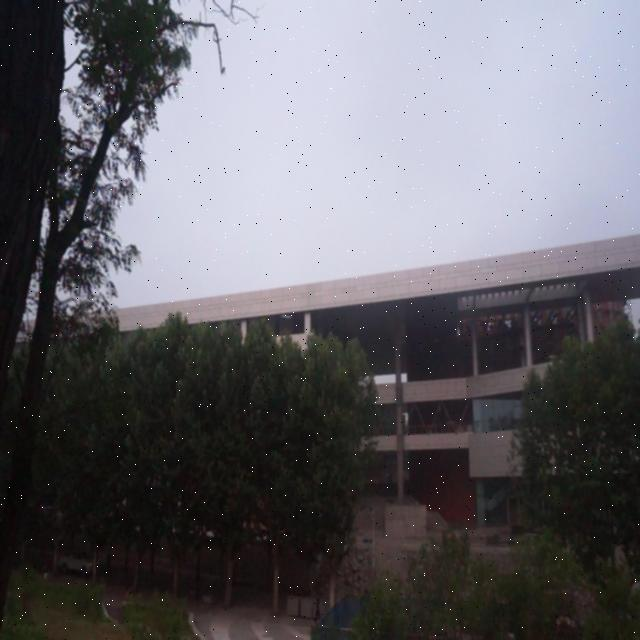UAV: (280, 314, 292, 323)
